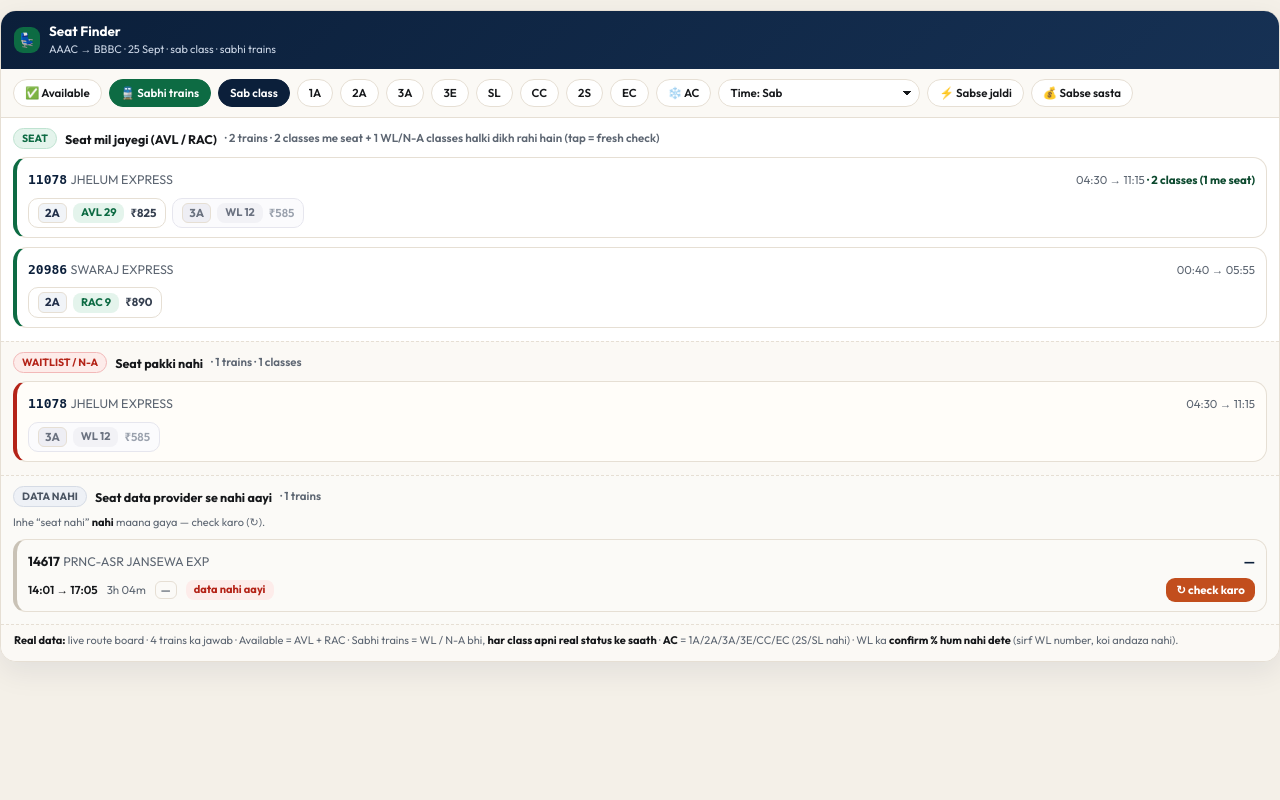
Test: Seat Finder card (jsdom) › '✅ Available' chip = sirf AVL + RAC (WL section hat jata hai); '🚆 Sabhi trains' = sab wapas
Expected: the text "WAITLIST / N-A Seat pakki nahi · 1 trains · 1 classes" is shown, [13,352,302,373]
What coordinates should you click on to do the following:
click the button "✅ Available"
I would click on:
 (57, 93)
Its box is [13,78,102,107].
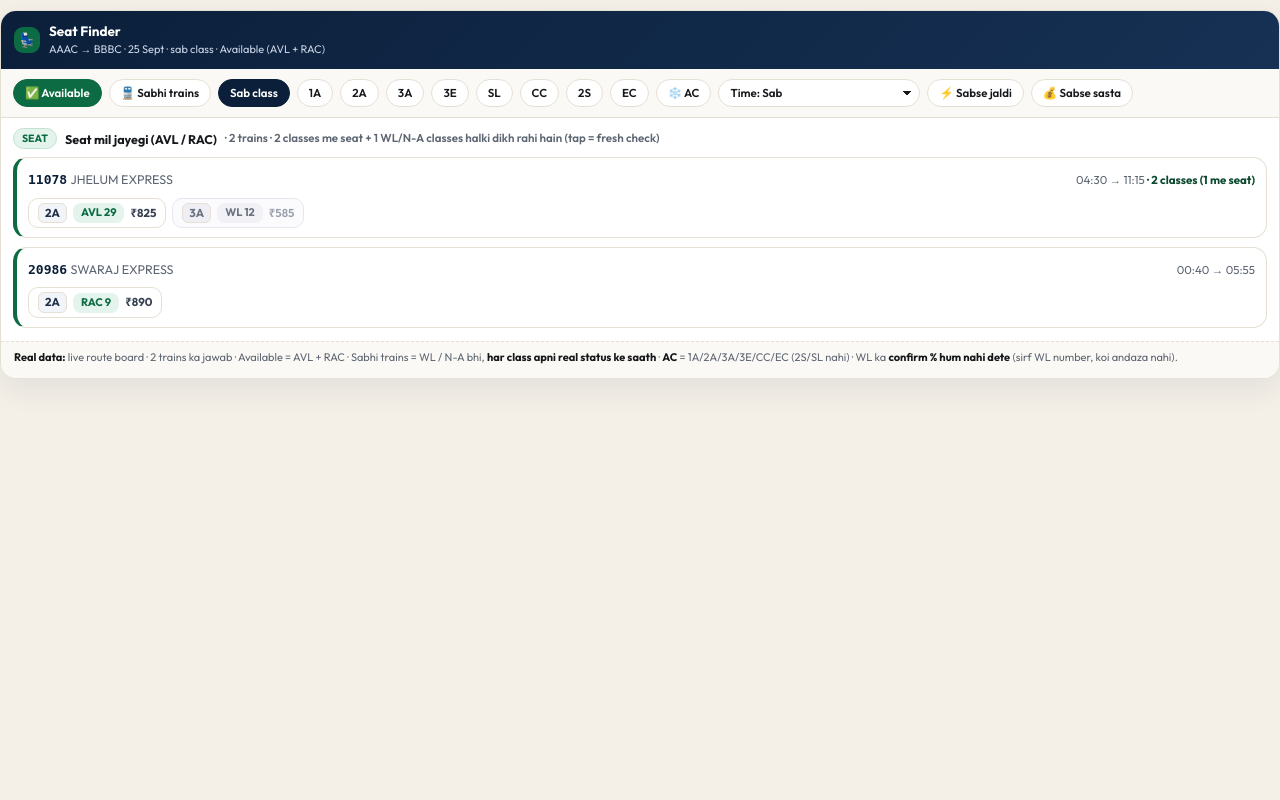
Expected: the text "AVL 29" is shown, [73,203,124,223]
Expected: the text "Seat pakki nahi" is gone
What coordinates should you click on to do the following:
click the button "🚆 Sabhi trains"
I would click on:
 (160, 93)
Its box is [109,78,211,107].
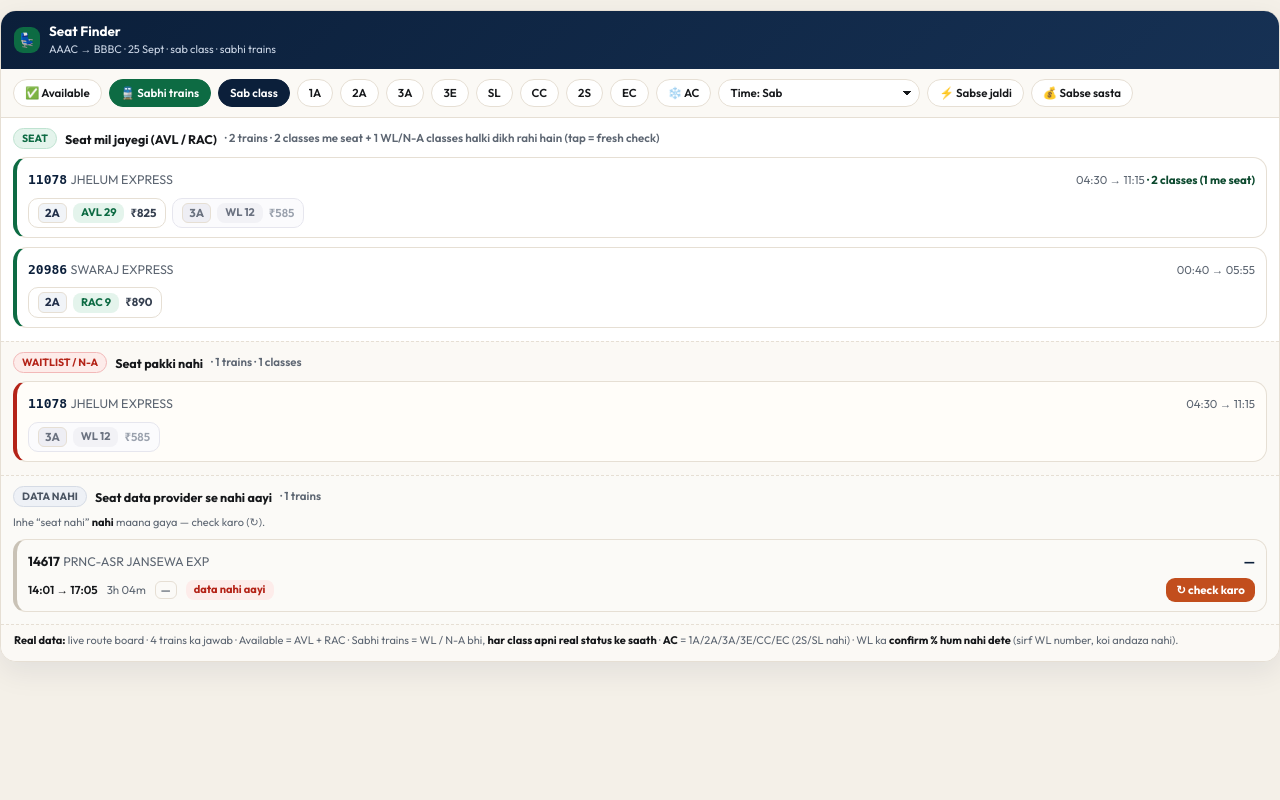
Expected: the text "WL 12" below "Seat mil jayegi (AVL / RAC)" is shown, [217,203,263,223]
Expected: the text "WAITLIST / N-A Seat pakki nahi · 1 trains · 1 classes" is shown, [13,352,302,373]
